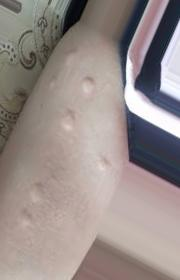Reupload: (75, 74, 102, 102), (58, 107, 78, 135), (16, 210, 42, 231), (30, 182, 46, 205), (96, 154, 111, 171), (63, 50, 80, 63)
